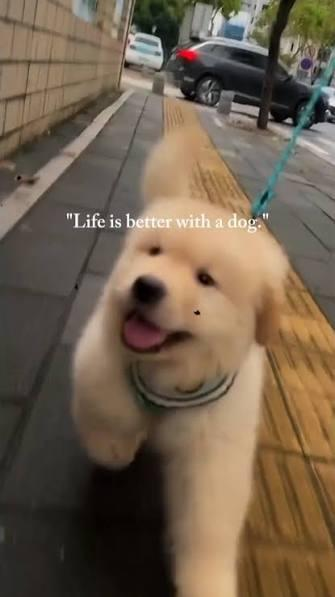puppy-dog: (71, 120, 291, 597)
